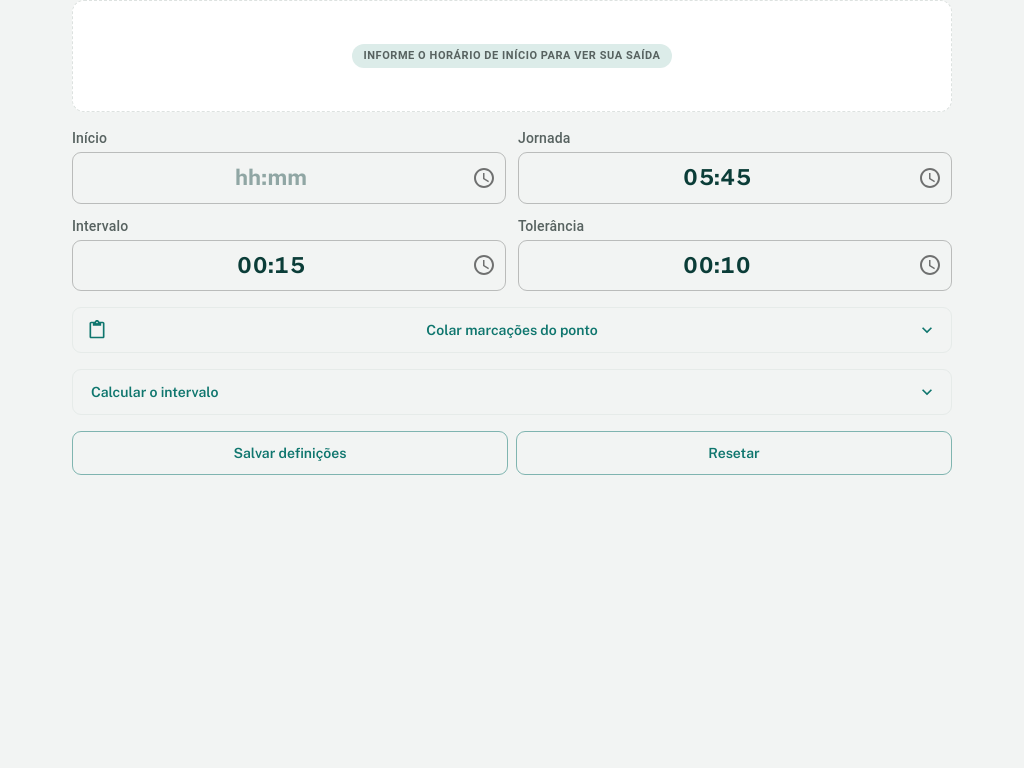
Test: Jornada › leaving on the tolerance › remembers the switch from a previous session
Click the button "Colar marcações do ponto" at {"x": 512, "y": 330}, box [73,308,951,352]
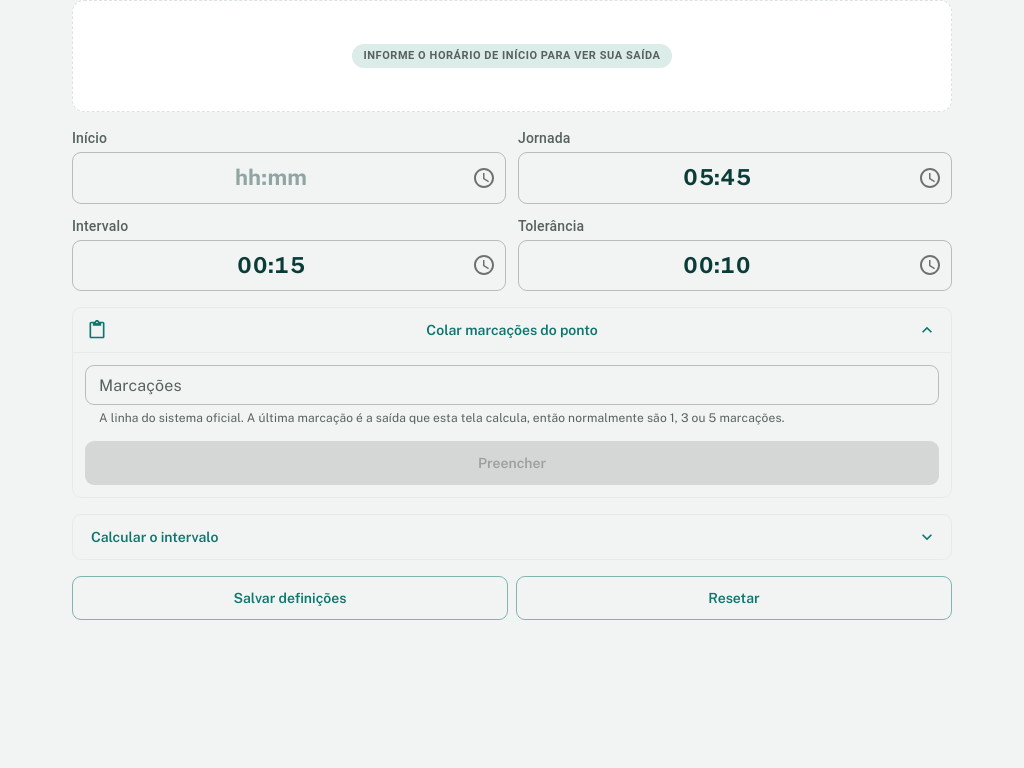
Type "08:00" into the field labelled "Marcações" at {"x": 512, "y": 385}, box [85,365,939,405]
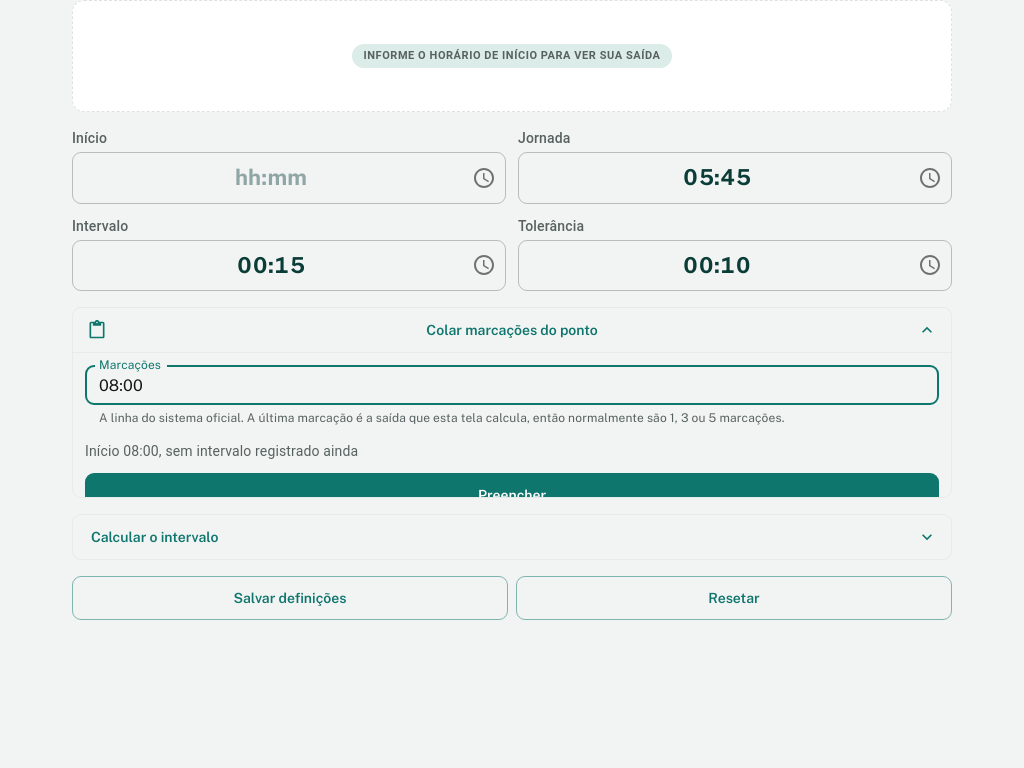
Click the button "Preencher" at {"x": 512, "y": 495}, box [85,473,939,517]
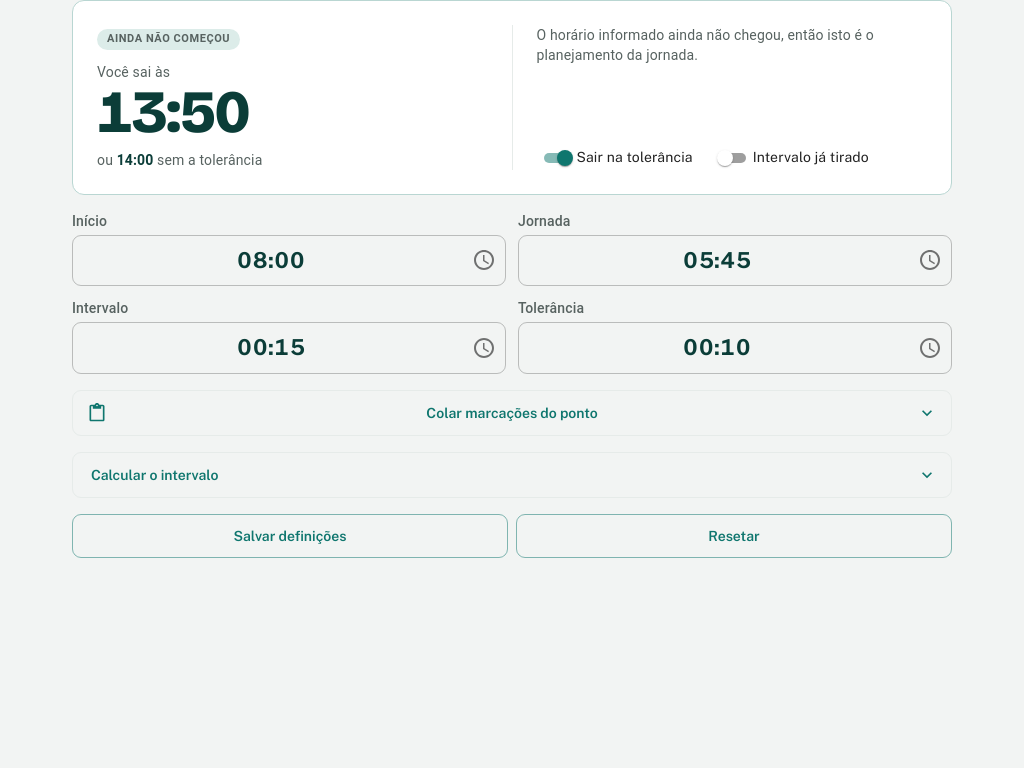
Expected: the switch labelled "Sair na tolerância" is checked, [536,146,693,170]
